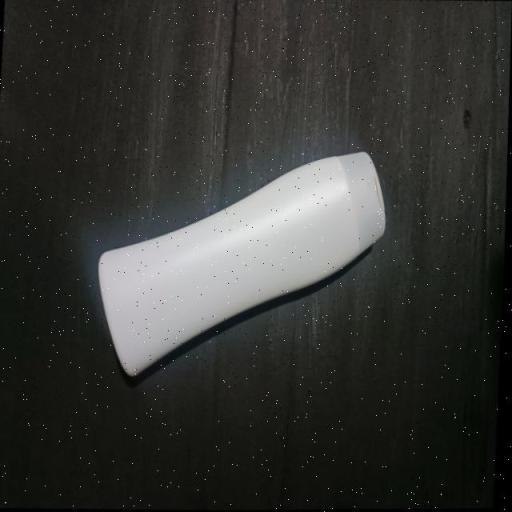plastic: (57, 116, 422, 402)
